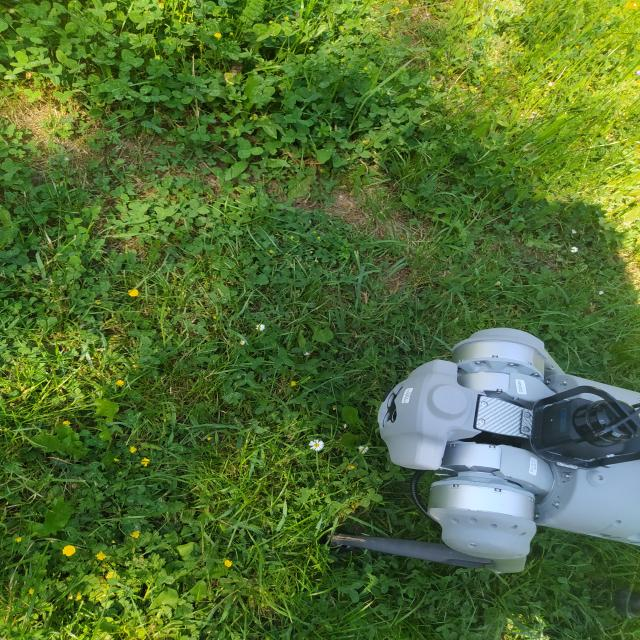unitree-go1-robot: (316, 314, 640, 616)
